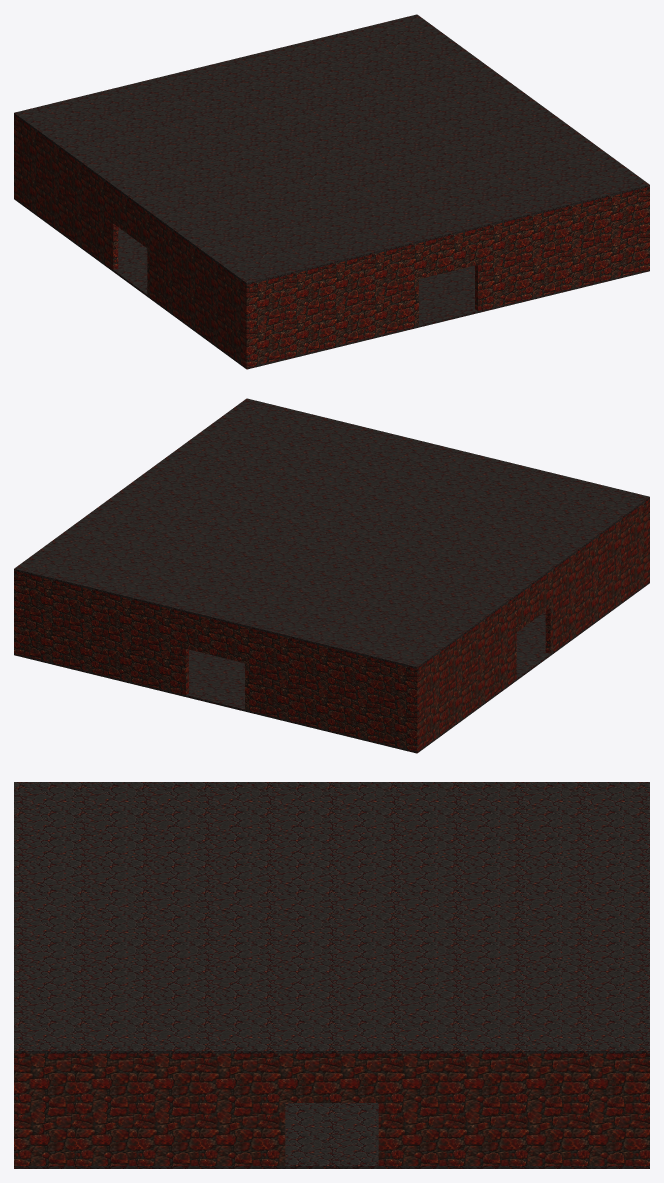
File: room_ring.glb
The picture shows the model from 3 angles, top to bottom: view 1: azimuth 30°, elevation 25°; view 2: azimuth 150°, elevation 25°; view 3: azimuth 270°, elevation 25°; orthographic projection. The views are drawn at different scales.
Visible parts, largest first — view 1: Geo_Ceiling.001, Geo_Wall_S_L.001, Geo_Wall_S_R.001, Geo_Wall_W_R.001, Geo_Wall_W_L.001, Geo_Floor.001, Geo_Wall_S_Lintel.001, Geo_Wall_W_Lintel.001; view 2: Geo_Ceiling.001, Geo_Wall_N_L.001, Geo_Wall_N_R.001, Geo_Wall_W_L.001, Geo_Wall_W_R.001, Geo_Floor.001, Geo_Wall_N_Lintel.001, Geo_Wall_W_Lintel.001; view 3: Geo_Ceiling.001, Geo_Wall_E_L.001, Geo_Wall_E_R.001, Geo_Floor.001, Geo_Wall_E_Lintel.001, Geo_Wall_N_R.001, Geo_Wall_S_R.001.
Boxes of the visible parts, box(x1,y1,x2,y2) form: Geo_Ceiling.001: box(14, 14, 649, 284); Geo_Wall_S_L.001: box(244, 243, 418, 367); Geo_Wall_S_R.001: box(475, 187, 649, 310); Geo_Wall_W_R.001: box(17, 117, 118, 269); Geo_Wall_W_L.001: box(147, 212, 243, 364); Geo_Floor.001: box(14, 197, 649, 369); Geo_Wall_S_Lintel.001: box(419, 229, 477, 278); Geo_Wall_W_Lintel.001: box(113, 188, 147, 247); Geo_Ceiling.001: box(14, 398, 649, 668); Geo_Wall_N_L.001: box(245, 627, 419, 751); Geo_Wall_N_R.001: box(14, 571, 188, 694); Geo_Wall_W_L.001: box(545, 501, 646, 653); Geo_Wall_W_R.001: box(420, 596, 516, 748); Geo_Floor.001: box(14, 581, 649, 753); Geo_Wall_N_Lintel.001: box(186, 613, 244, 662); Geo_Wall_W_Lintel.001: box(516, 572, 550, 631); Geo_Ceiling.001: box(14, 782, 649, 1053); Geo_Wall_E_L.001: box(21, 1053, 285, 1165); Geo_Wall_E_R.001: box(378, 1053, 642, 1165); Geo_Floor.001: box(14, 1103, 649, 1168); Geo_Wall_E_Lintel.001: box(285, 1053, 378, 1102); Geo_Wall_N_R.001: box(642, 1053, 649, 1165); Geo_Wall_S_R.001: box(14, 1053, 21, 1165).
Size of the model in its own units: 41 by 8.4 by 41.
Materials: 6 (6 with a texture image).
